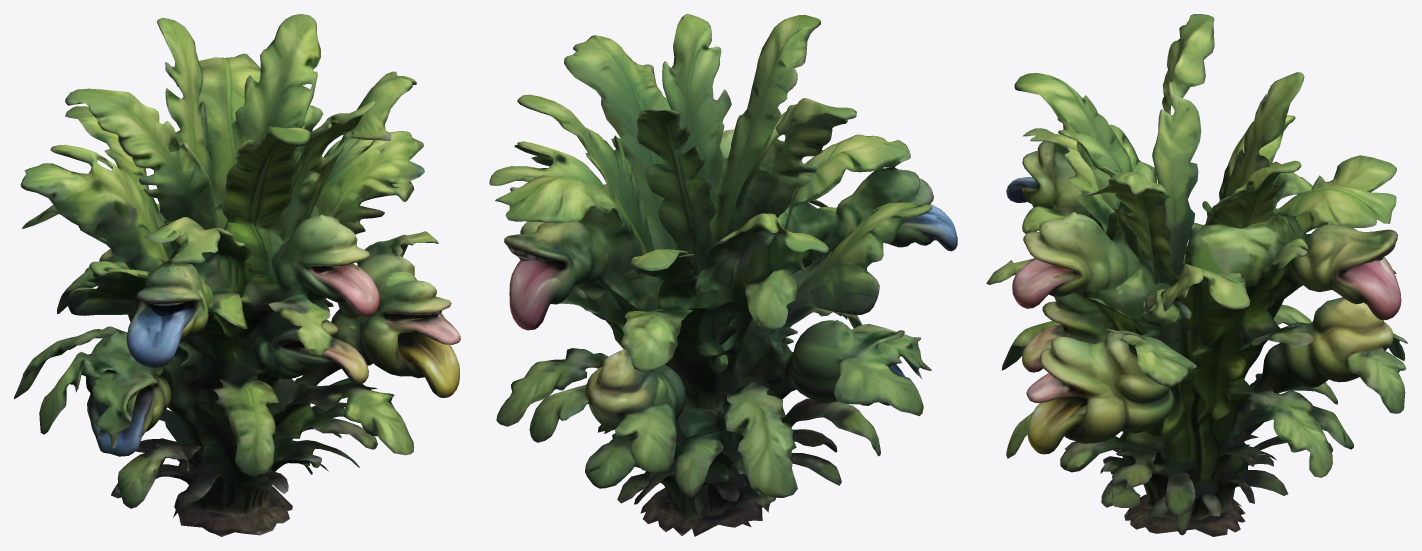
File: Barnaby_the_Fern.glb
The picture shows the model from 3 angles, left to right: view 1: azimuth 30°, elevation 25°; view 2: azimuth 150°, elevation 25°; view 3: azimuth 270°, elevation 25°; orthographic projection. The views are drawn at different scales.
Parts seen in each view (by area): view 1: SentientPlant; view 2: SentientPlant; view 3: SentientPlant.
Part boxes in pixels (x1,y1,x2,y2): SentientPlant: (14, 14, 460, 536); SentientPlant: (489, 14, 957, 536); SentientPlant: (986, 14, 1407, 536).
Bounding box in the file's own units: 0.6885 × 0.75 × 0.6538.
1 material, 1 textured.
